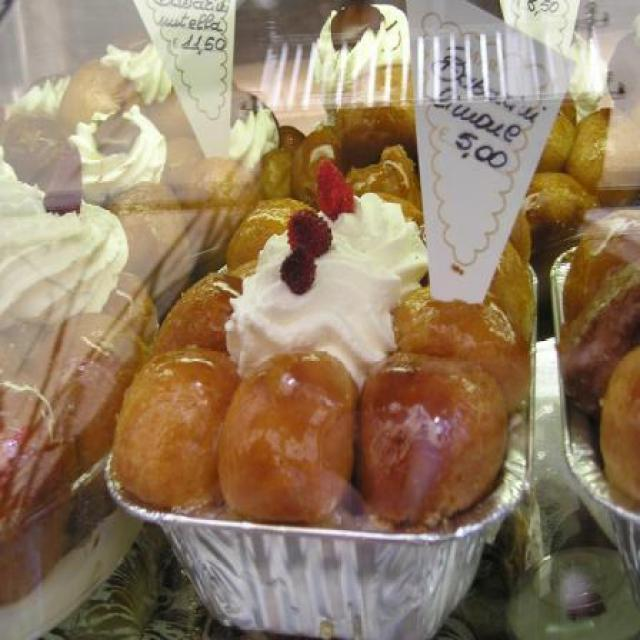Ice Cream: (182, 182, 444, 401)
